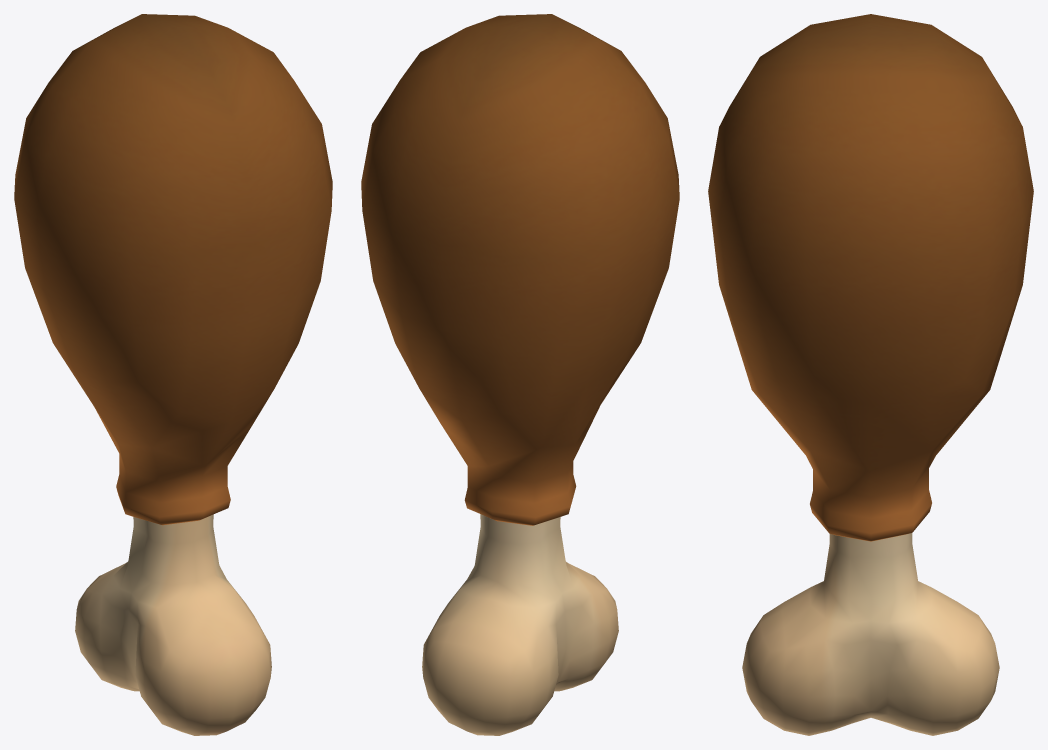
File: Balls and Meat.fbx
3 views of the same model, side by side, from view 1: azimuth 30°, elevation 25°; view 2: azimuth 150°, elevation 25°; view 3: azimuth 270°, elevation 25° (orthographic). The views are drawn at different scales.
Parts seen in each view (by area): view 1: Meat, Balls; view 2: Meat, Balls; view 3: Meat, Balls.
Boxes of the visible parts, x1,y1,x2,y2 form: Meat: [14, 14, 332, 525]; Balls: [75, 514, 271, 735]; Meat: [361, 14, 679, 525]; Balls: [422, 514, 618, 735]; Meat: [708, 14, 1033, 541]; Balls: [742, 533, 999, 735].
Size of the model in its own units: 5.13 by 12.2 by 5.13.
1 material, 1 textured.
